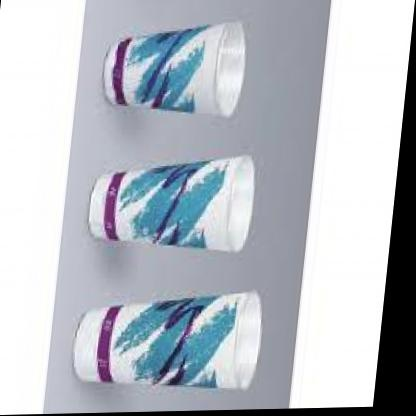trash: (74, 291, 260, 388), (89, 155, 253, 251), (104, 22, 245, 116)
